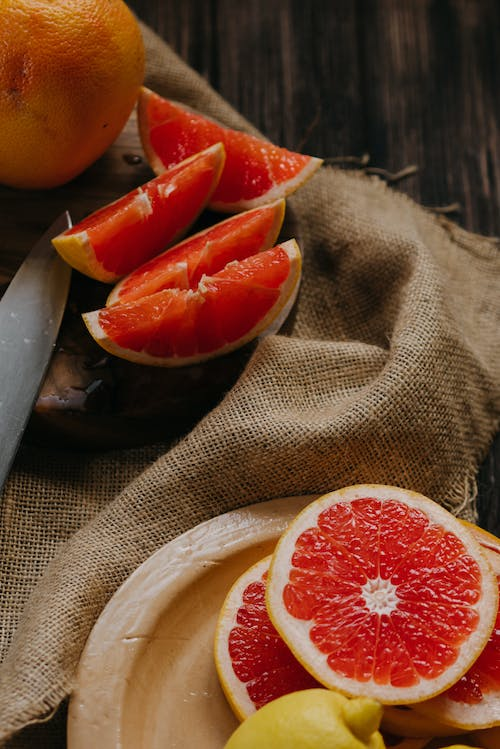knife: (0, 206, 76, 494)
